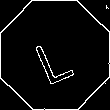L_NW: (31, 26, 79, 84)
